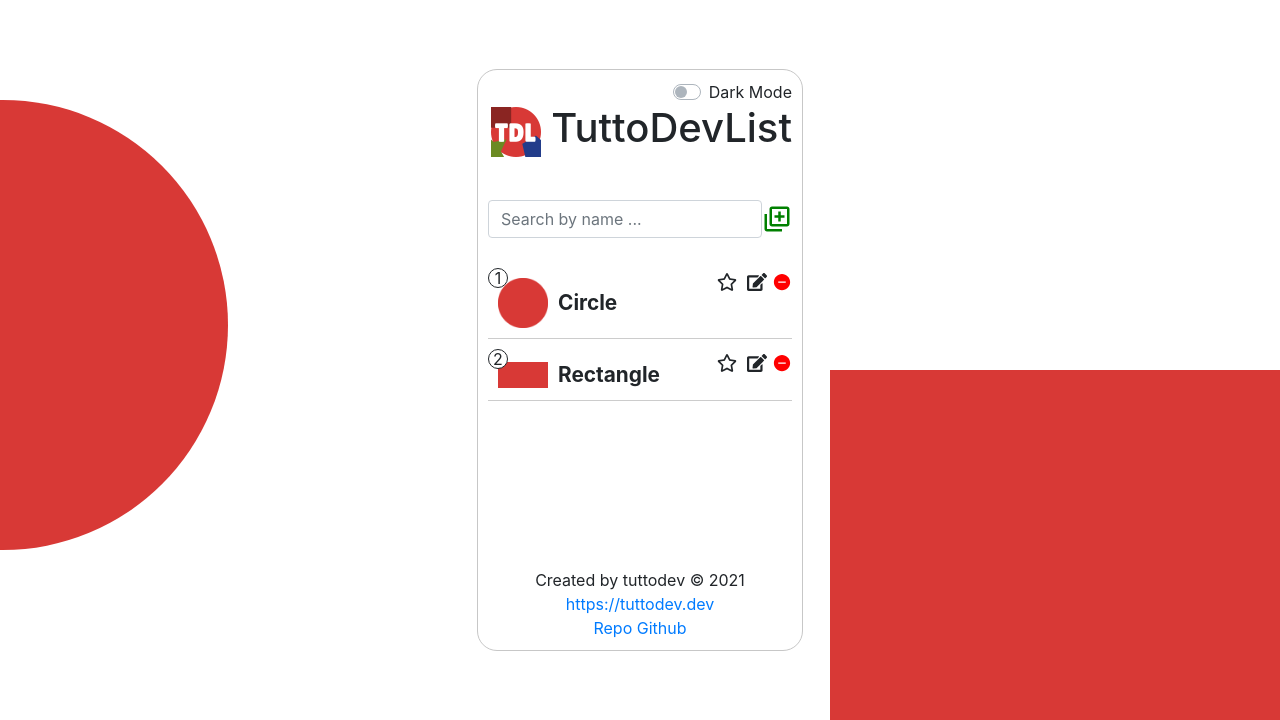
Scenario: Aplication › Delete Item/s
Click the 1st icon with test id "remove-item" at (782, 282), box [772, 272, 792, 292]
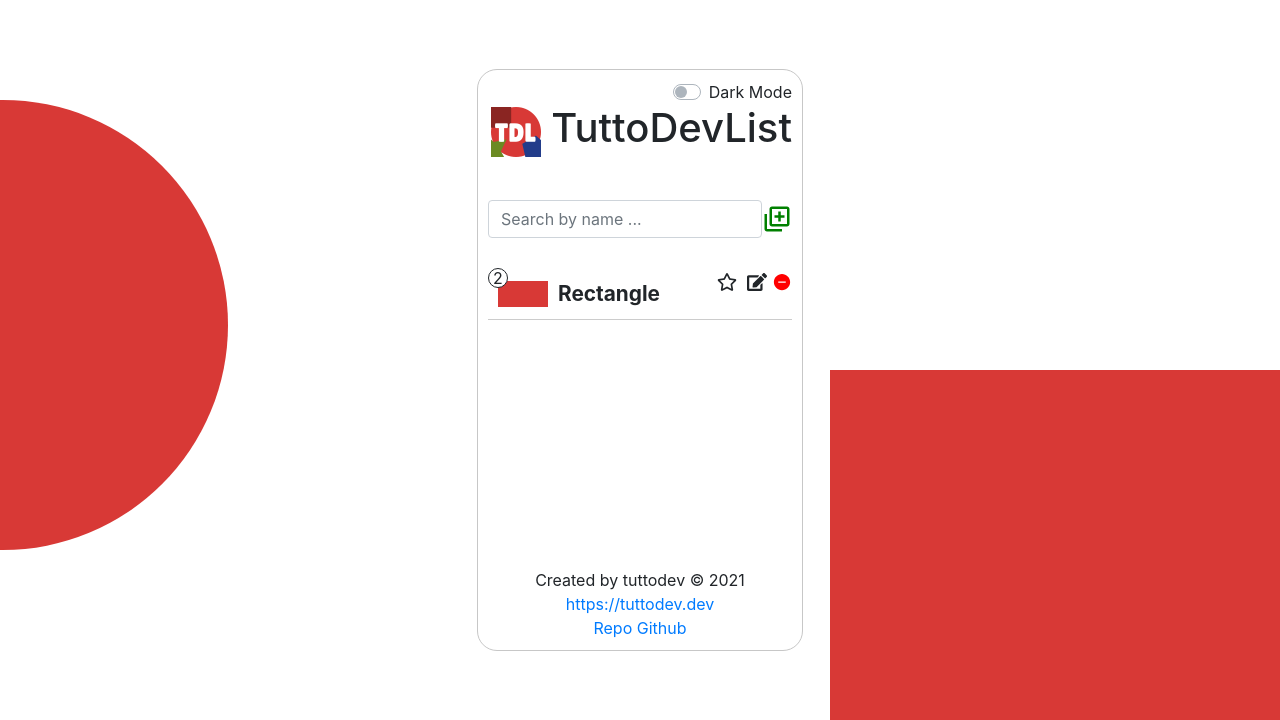
Click the icon with test id "remove-item" at (782, 282), box [772, 272, 792, 292]
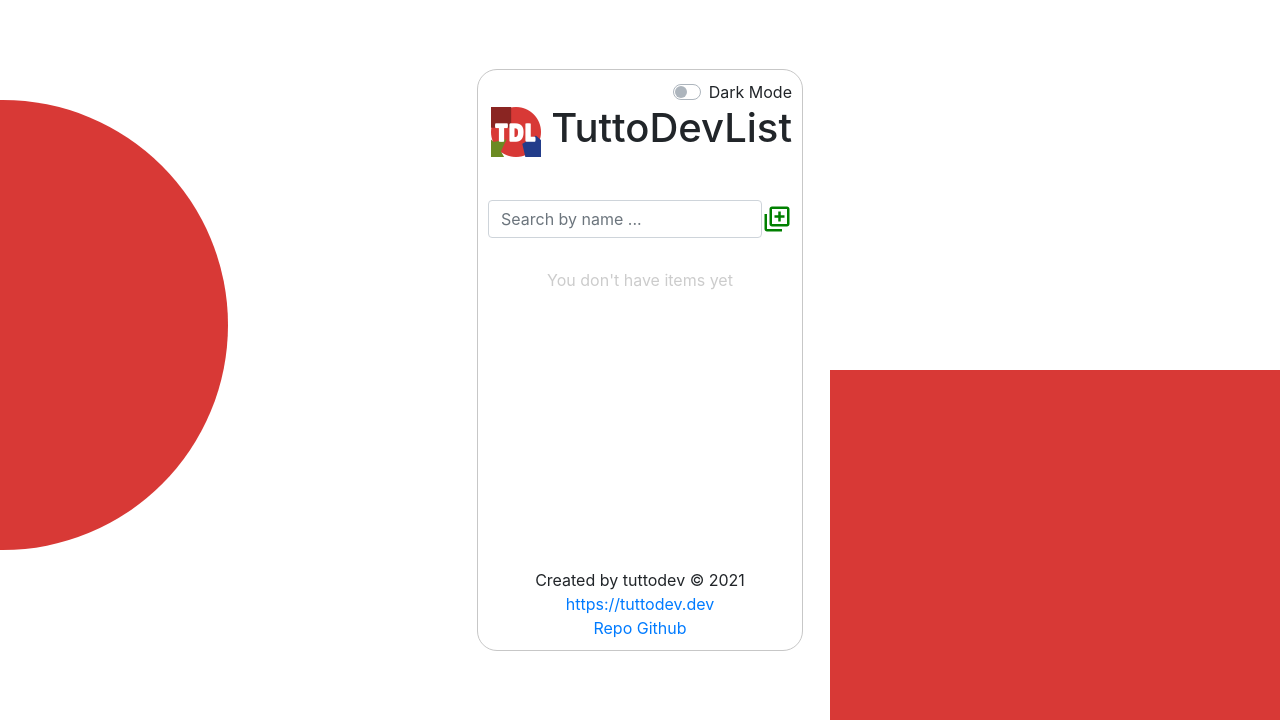
Check: no elements with test id "item" are shown
Check: the text "You don't have items yet" is shown, box [547, 270, 733, 290]
